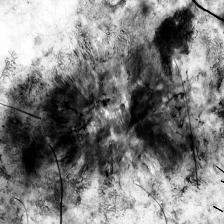Benign Marking or Mole: (12, 73, 224, 181), (151, 7, 195, 78), (64, 24, 131, 66)
